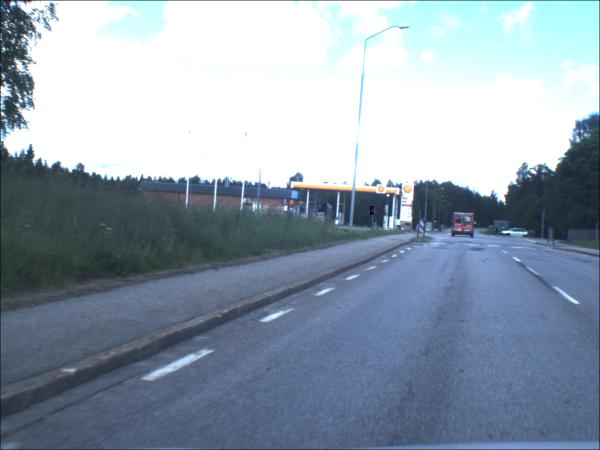50_SIGN: (434, 219, 438, 222)
PRIORITY_ROAD: (435, 222, 437, 224)
STOP: (370, 207, 375, 217)
